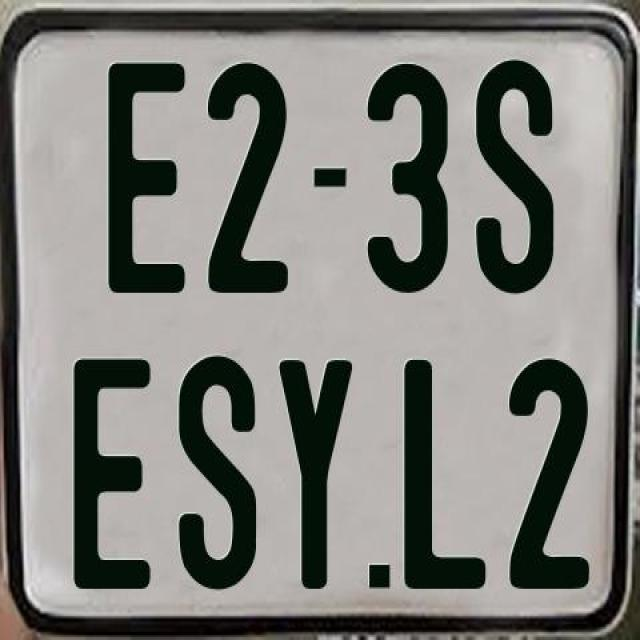2: (206, 62, 290, 293), (510, 354, 590, 590)
3: (364, 61, 447, 293)
E: (106, 59, 190, 299), (70, 357, 154, 592)
L: (400, 355, 490, 587)
S: (474, 59, 554, 301), (176, 354, 255, 588)
Y: (278, 355, 358, 592)
